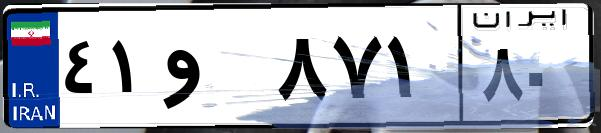0: (525, 38, 570, 115)
1: (385, 28, 445, 110), (110, 28, 158, 98)
4: (57, 26, 110, 100)
7: (330, 28, 385, 110)
8: (270, 28, 330, 110), (475, 38, 525, 113)
و: (158, 20, 270, 120)
